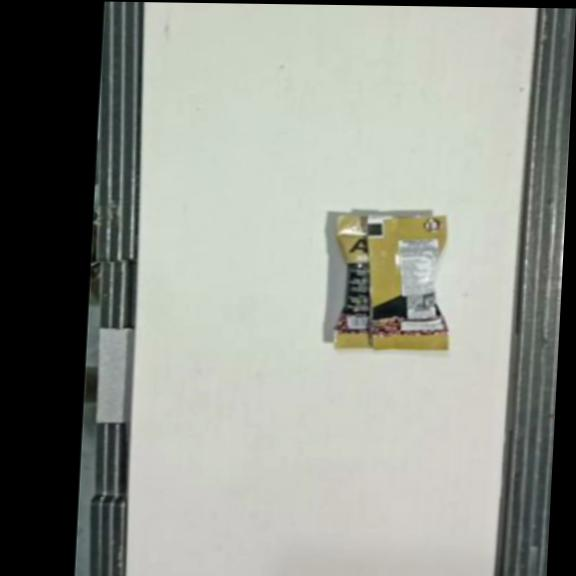Plastik: (332, 213, 453, 352)
